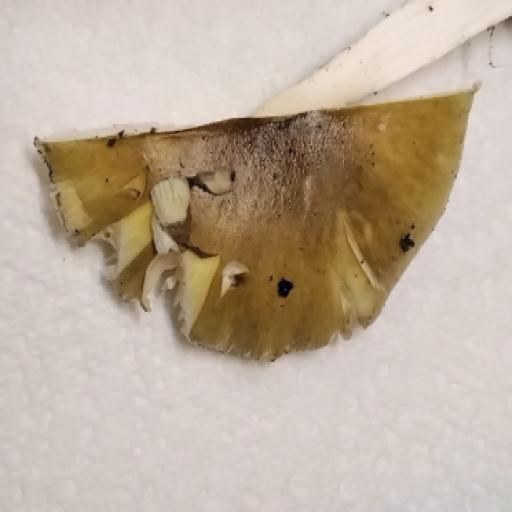Death Cap: (33, 0, 512, 415)
